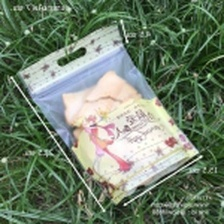snack: (10, 14, 207, 209)
